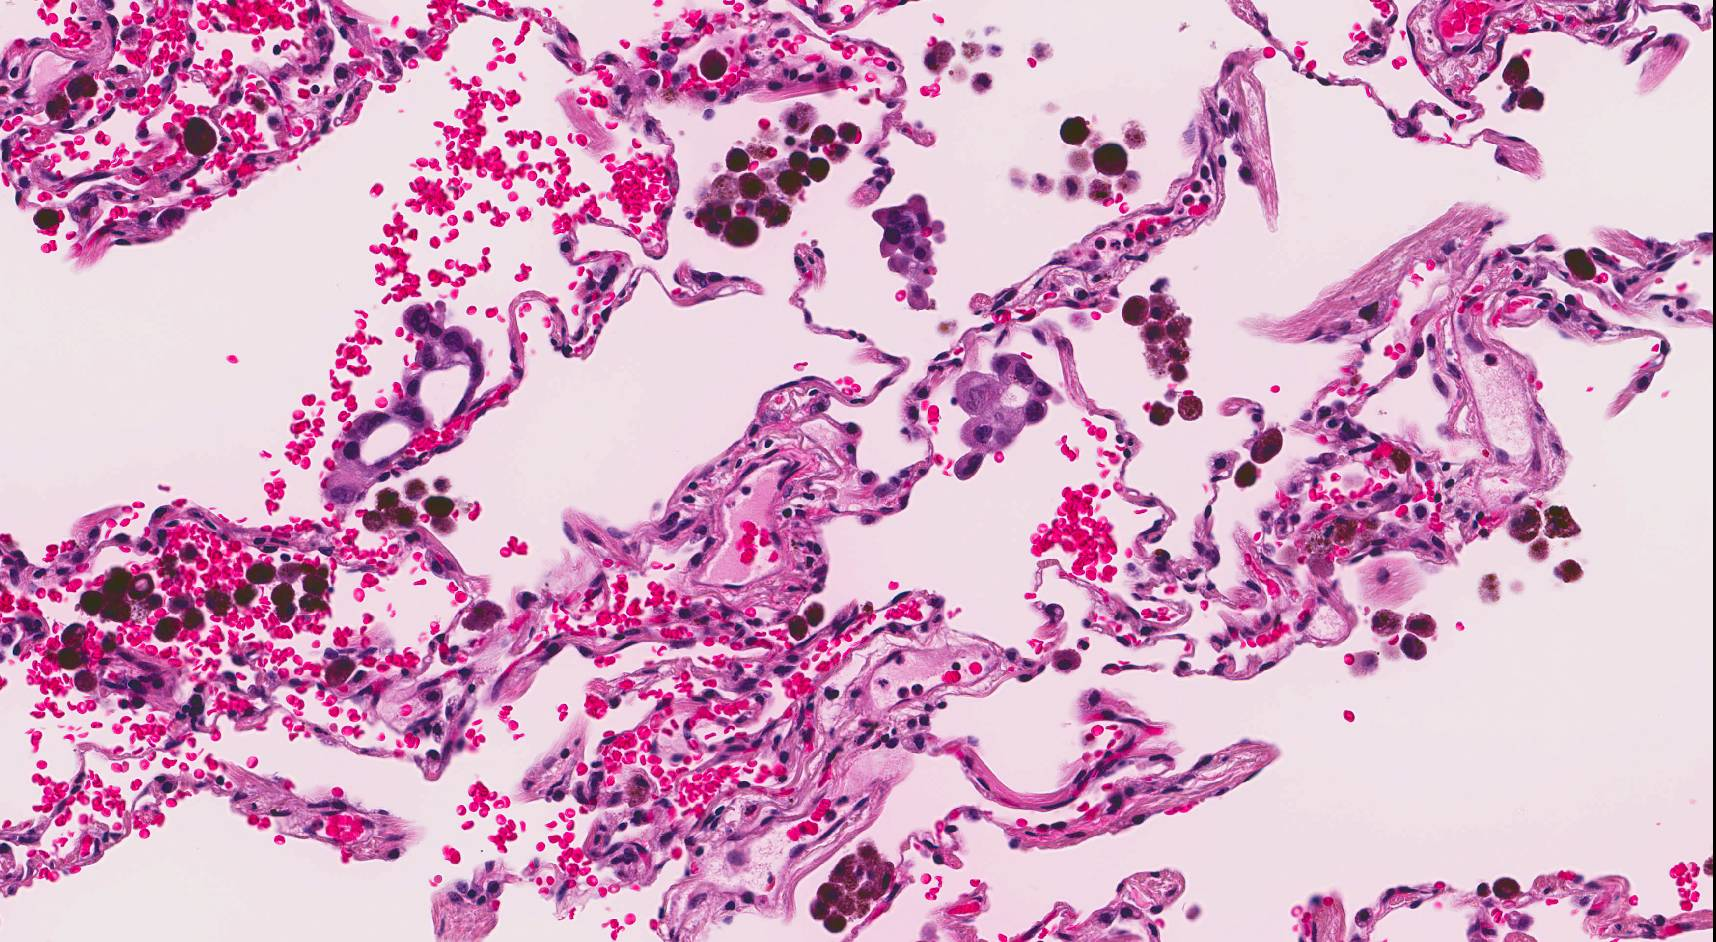stas: (322, 306, 486, 503), (956, 355, 1060, 493), (872, 192, 950, 310)
